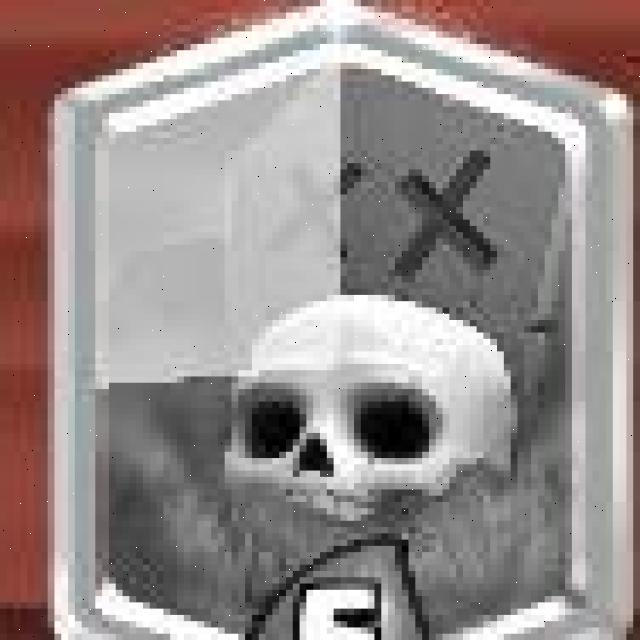Graveyard: (61, 0, 622, 640)
